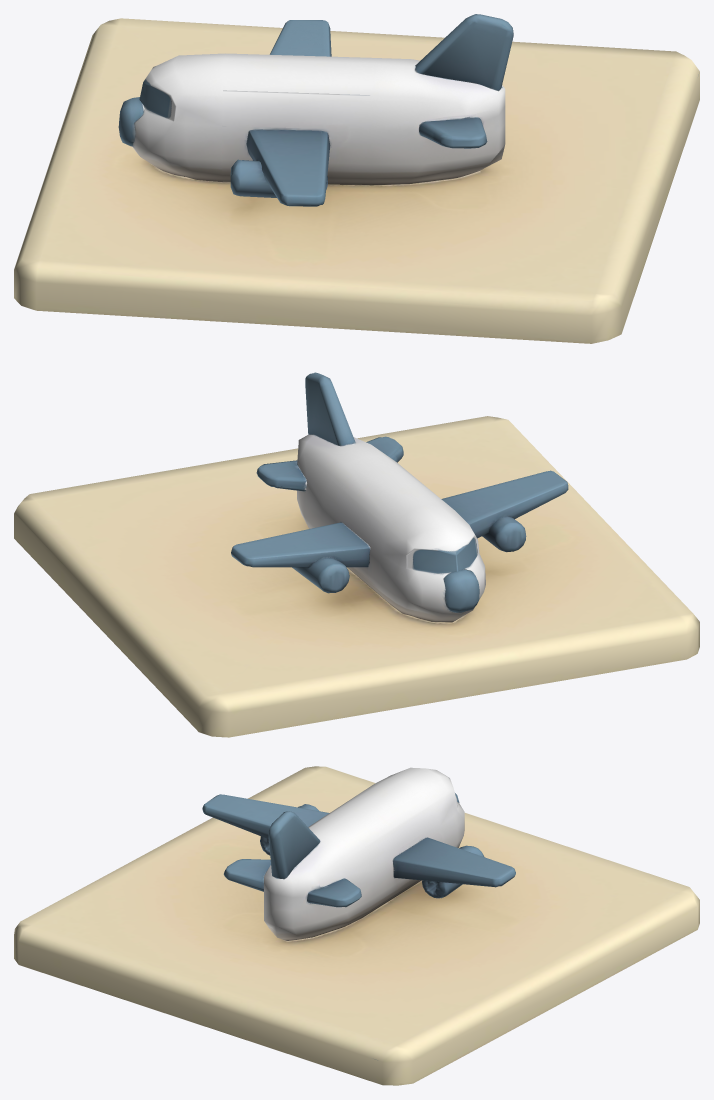
3 renders of one model, top to bottom at view 1: azimuth 30°, elevation 25°; view 2: azimuth 150°, elevation 25°; view 3: azimuth 270°, elevation 25°, orthographic. The views are drawn at different scales.
Visible parts, largest first — view 1: tripo_node_df5250d8-7b79-47c4-bd5b-c015096c6762; view 2: tripo_node_df5250d8-7b79-47c4-bd5b-c015096c6762; view 3: tripo_node_df5250d8-7b79-47c4-bd5b-c015096c6762.
Boxes of the visible parts, x1=… form: tripo_node_df5250d8-7b79-47c4-bd5b-c015096c6762: x1=14, y1=14, x2=699, y2=343; tripo_node_df5250d8-7b79-47c4-bd5b-c015096c6762: x1=14, y1=372, x2=699, y2=737; tripo_node_df5250d8-7b79-47c4-bd5b-c015096c6762: x1=14, y1=766, x2=699, y2=1085.
Size of the model in its own units: 1.35 by 0.3496 by 1.35.
Materials: 1 (1 with a texture image).
